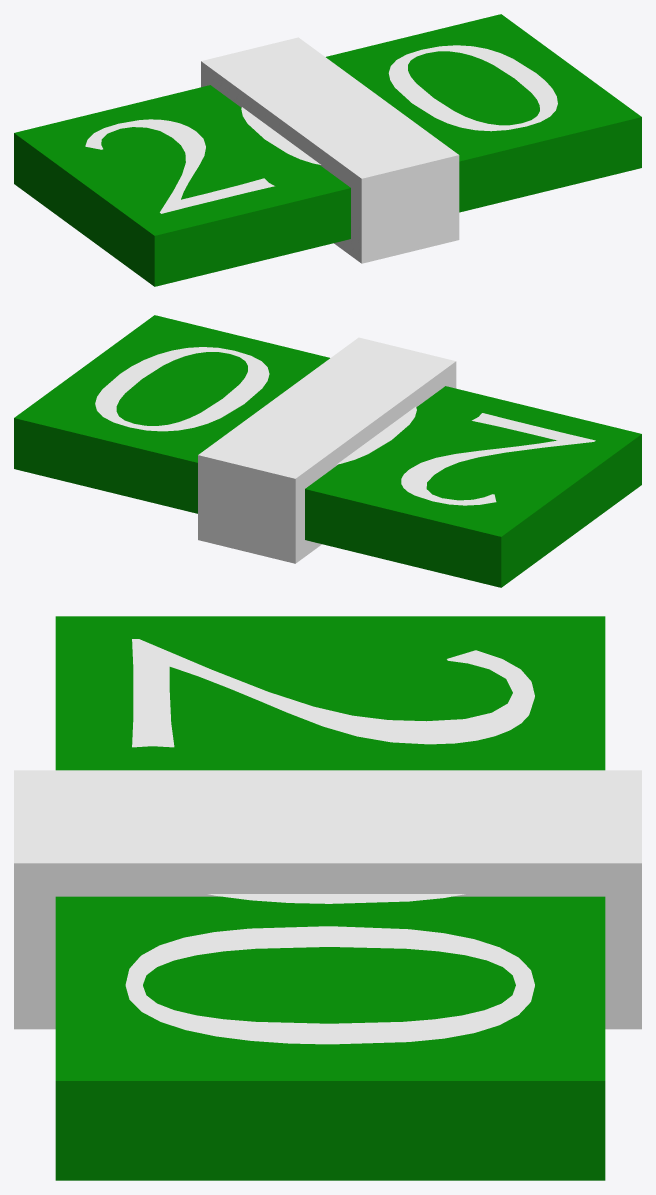
Rendered from Geld.dae.
3 renders of one model, top to bottom at view 1: azimuth 30°, elevation 25°; view 2: azimuth 150°, elevation 25°; view 3: azimuth 270°, elevation 25°, orthographic. The views are drawn at different scales.
Visible parts, largest first — view 1: SketchUp (×2), instance_0; view 2: SketchUp (×2), instance_0; view 3: SketchUp (×2), instance_0.
Boxes of the visible parts, x1,y1,x2,y2 form: SketchUp (×2): (14,14,641,286); instance_0: (85,45,557,213); SketchUp (×2): (14,315,641,587); instance_0: (95,347,595,505); SketchUp (×2): (14,616,641,1180); instance_0: (125,639,534,1044).
Size of the model in its own units: 11.81 by 6.75 by 1.97.
